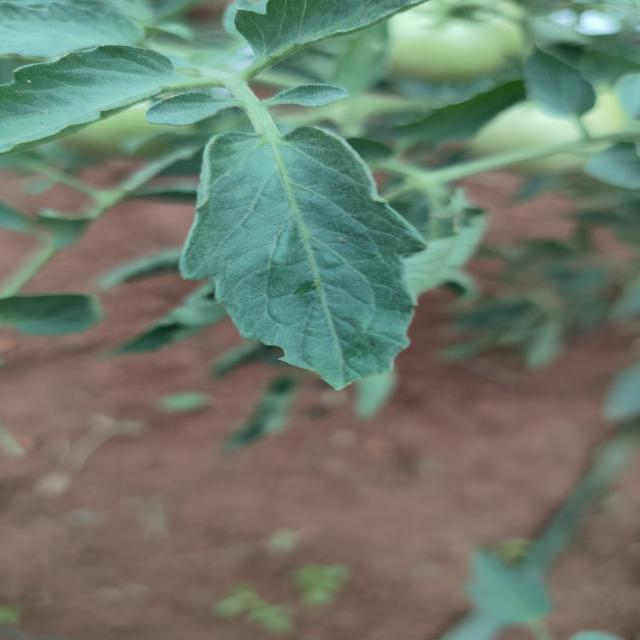tomato_healthy: (179, 128, 434, 390)
